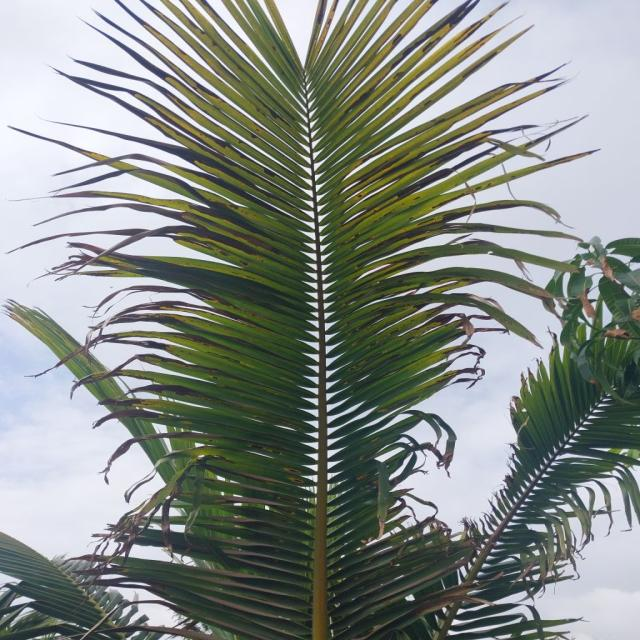leaf rot: (34, 8, 627, 533)
